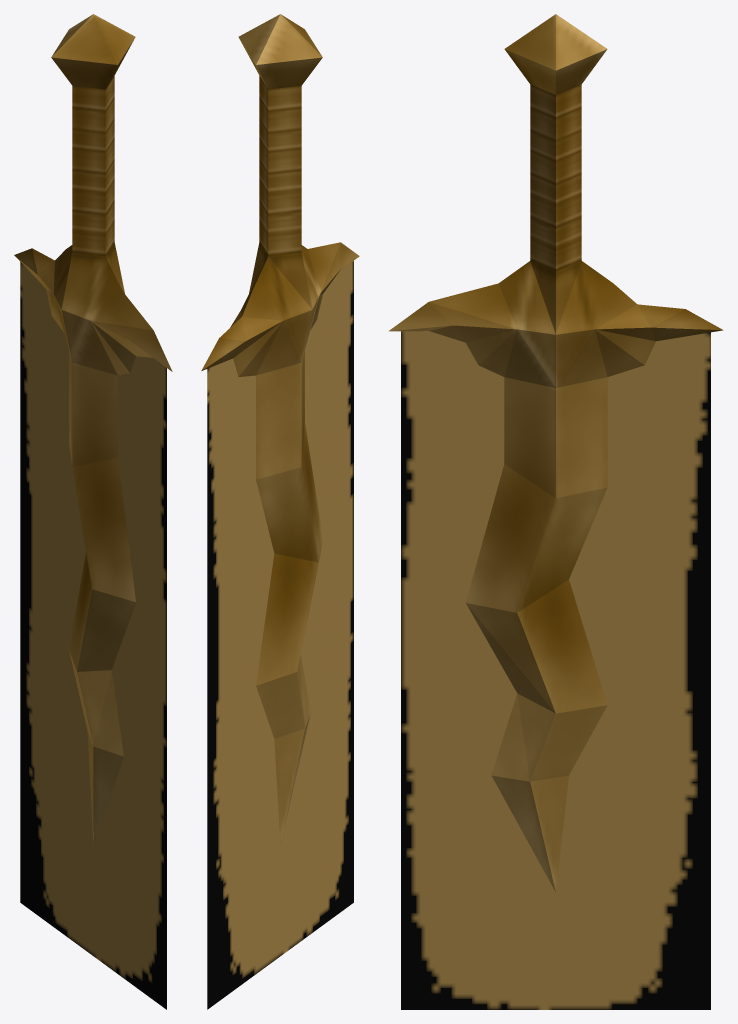
Rendered from twinblade06.obj.
3 renders of one model, left to right at view 1: azimuth 30°, elevation 25°; view 2: azimuth 150°, elevation 25°; view 3: azimuth 270°, elevation 25°, orthographic. The views are drawn at different scales.
Visible parts, largest first — view 1: cwdhsw06l; view 2: cwdhsw06l; view 3: cwdhsw06l.
Part boxes in pixels (x1=…): cwdhsw06l: x1=14, y1=14, x2=172, y2=1009; cwdhsw06l: x1=201, y1=14, x2=359, y2=1009; cwdhsw06l: x1=389, y1=14, x2=723, y2=1009.
Size of the model in its own units: 0.0798 by 0.8499 by 0.2597.
